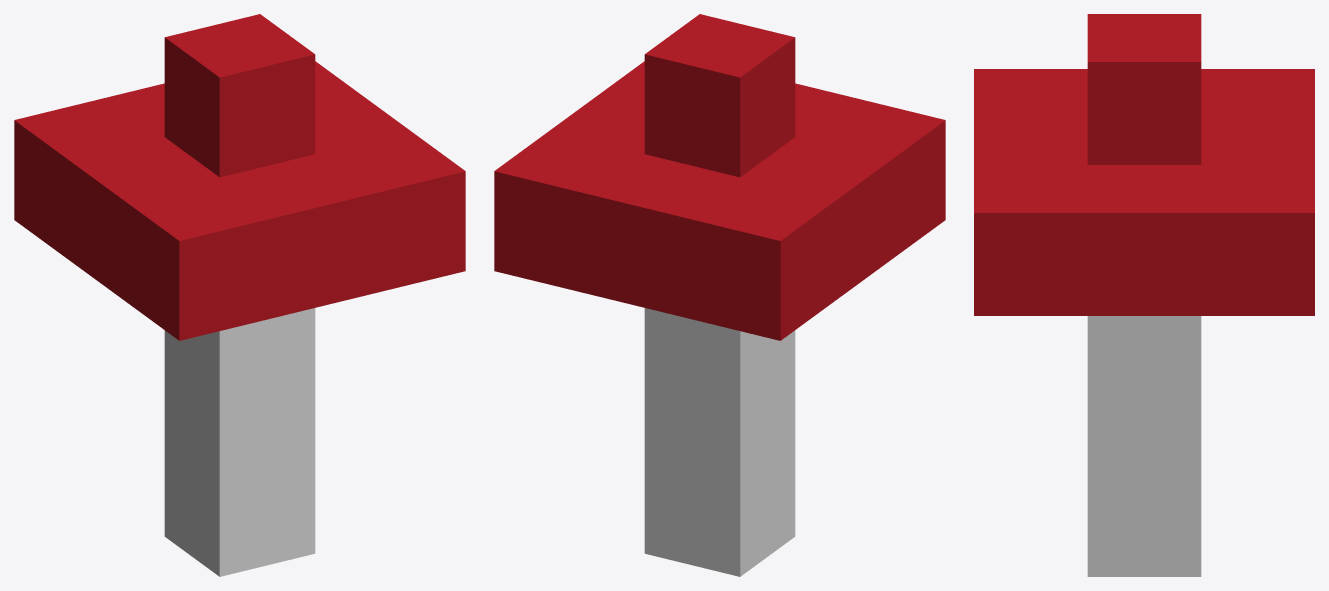
Rendered from fungusRED.fbx.
3 renders of one model, left to right at view 1: azimuth 30°, elevation 25°; view 2: azimuth 150°, elevation 25°; view 3: azimuth 270°, elevation 25°, orthographic. The views are drawn at different scales.
Visible parts, largest first — view 1: Cube.001; view 2: Cube.001; view 3: Cube.001.
Boxes of the visible parts, box(x1,y1,x2,y2) form: Cube.001: box(14, 14, 465, 576); Cube.001: box(494, 14, 945, 576); Cube.001: box(974, 14, 1314, 576).
Size of the model in its own units: 300 by 500 by 300.
